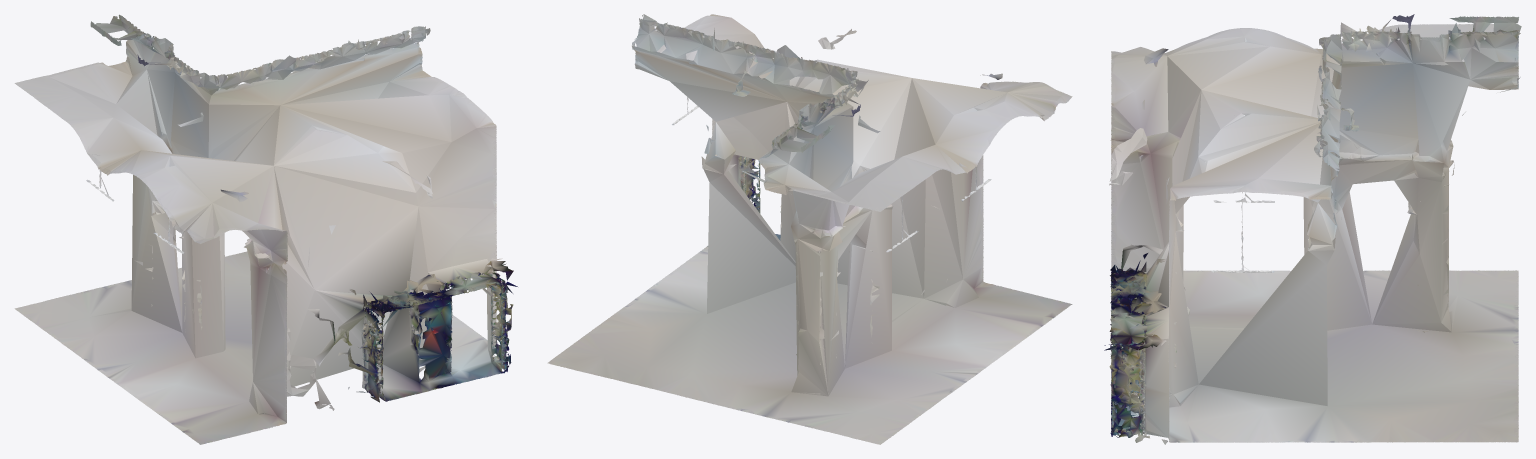
The picture shows the model from 3 angles, left to right: view 1: azimuth 30°, elevation 25°; view 2: azimuth 150°, elevation 25°; view 3: azimuth 270°, elevation 25°; orthographic projection. The views are drawn at different scales.
Bounding box in the file's own units: 10.29 × 8.64 × 10.32.
